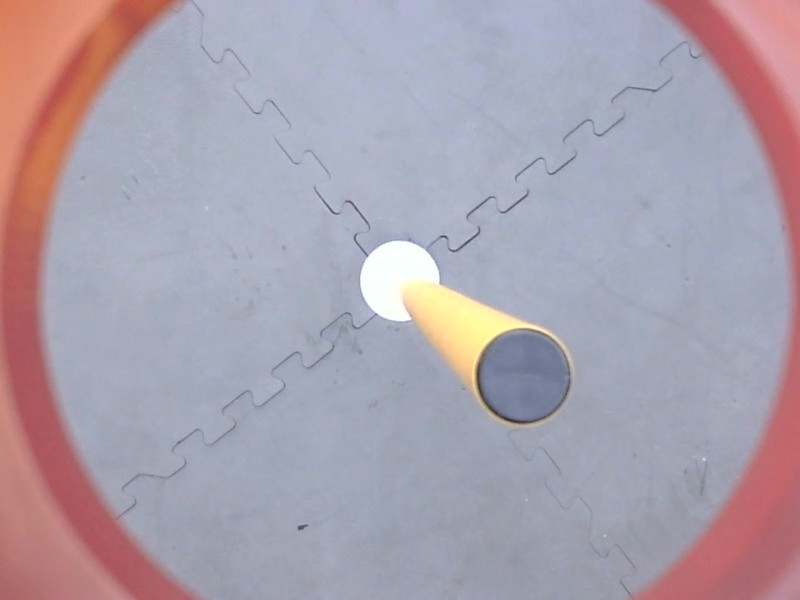tip: (468, 318, 582, 434)
